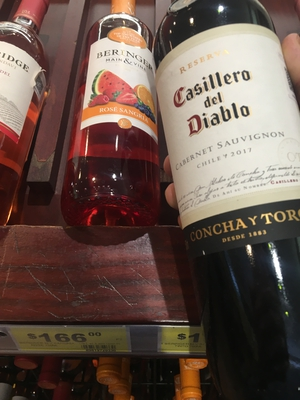casillero del diablo cabernet sauvignon: (147, 5, 300, 325)
